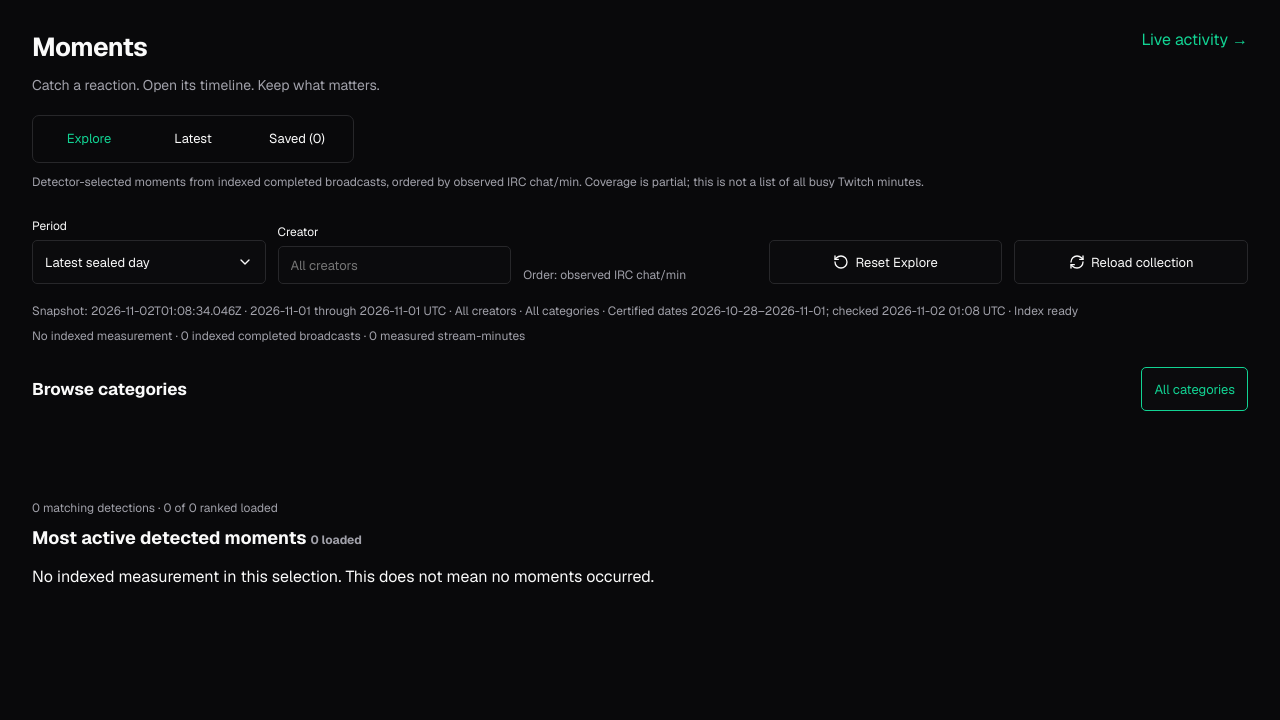
Test: drops a pending Explore creator when navigation from outside the field keeps the same login
Type "abc" into the search field named "Exact creator login" at [394, 265], box [278, 246, 511, 284]
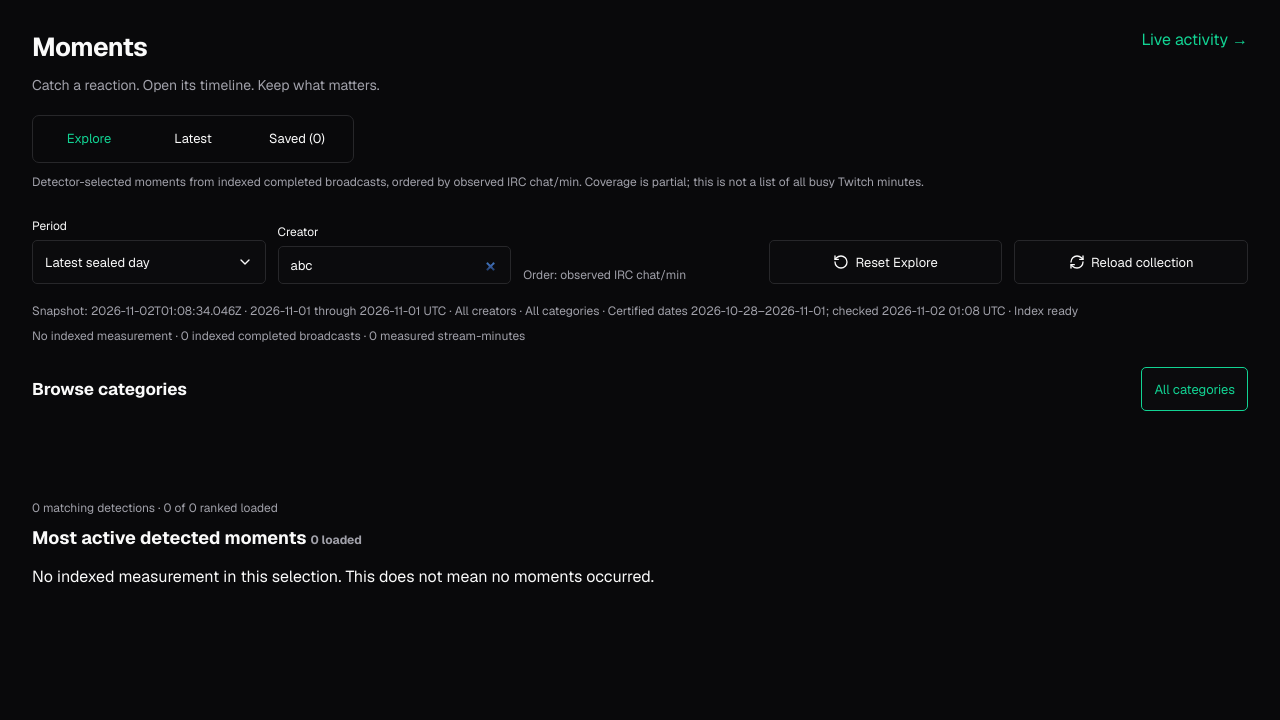
# A tap that leaves focus in the field (no blur) while the pause is pending.
Click the button "Reset Explore" at [886, 262], box [769, 240, 1002, 284]
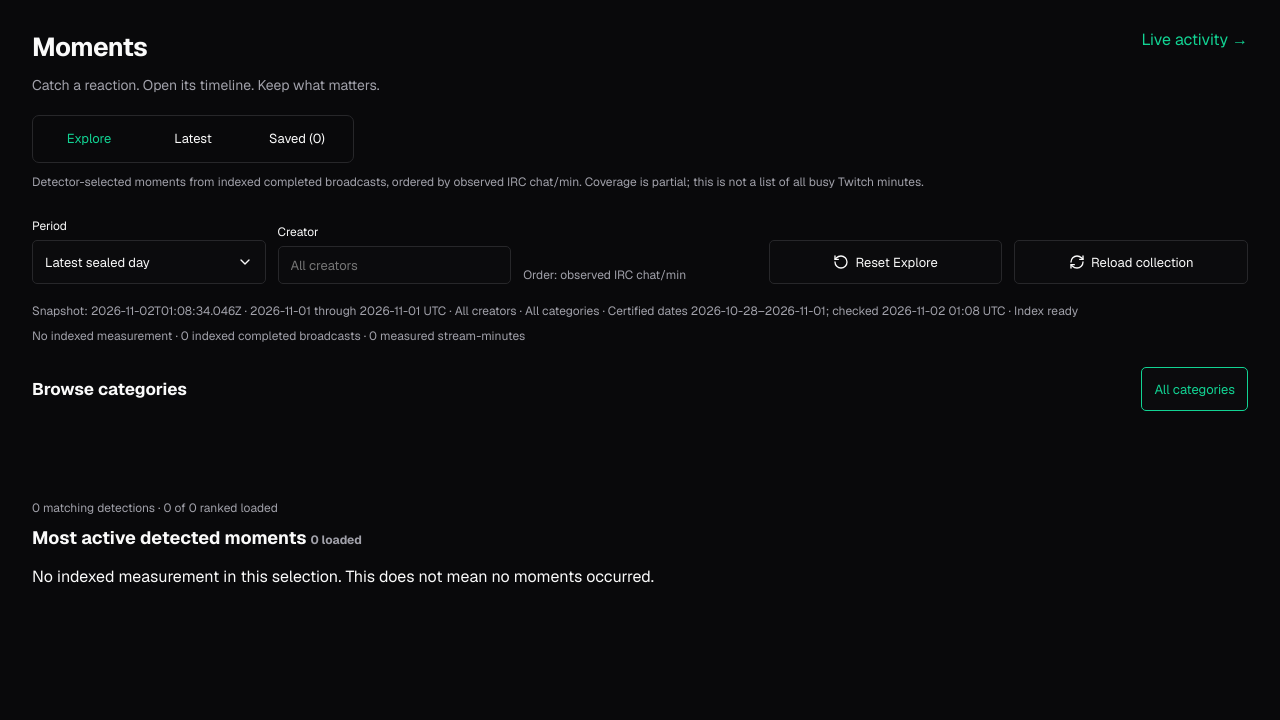
Expected: the search field named "Exact creator login" is empty, [278, 246, 511, 284]
